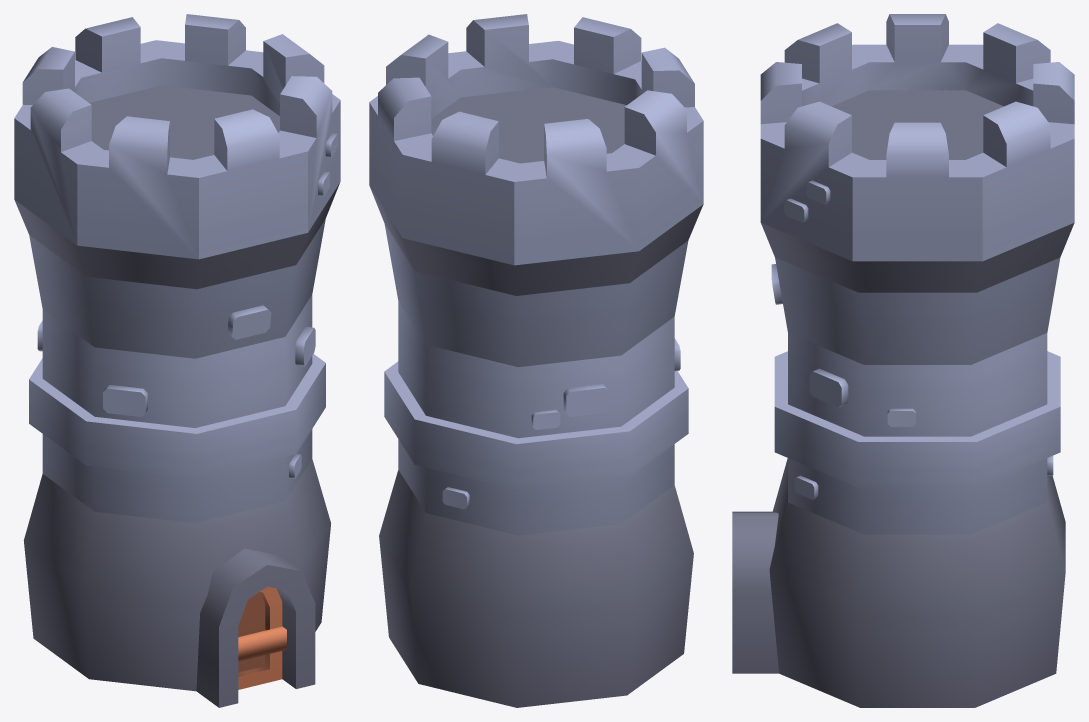
Rendered from tower-complete-small.glb.
3 renders of one model, left to right at view 1: azimuth 30°, elevation 25°; view 2: azimuth 150°, elevation 25°; view 3: azimuth 270°, elevation 25°, orthographic. The views are drawn at different scales.
Parts seen in each view (by area): view 1: tower-complete-small; view 2: tower-complete-small; view 3: tower-complete-small.
Part boxes in pixels (x1=…): tower-complete-small: x1=14, y1=14, x2=340, y2=707; tower-complete-small: x1=369, y1=14, x2=703, y2=707; tower-complete-small: x1=732, y1=14, x2=1074, y2=707.
Bounding box in the file's own units: 3.35 × 6.78 × 3.66.
1 material, 1 textured.
